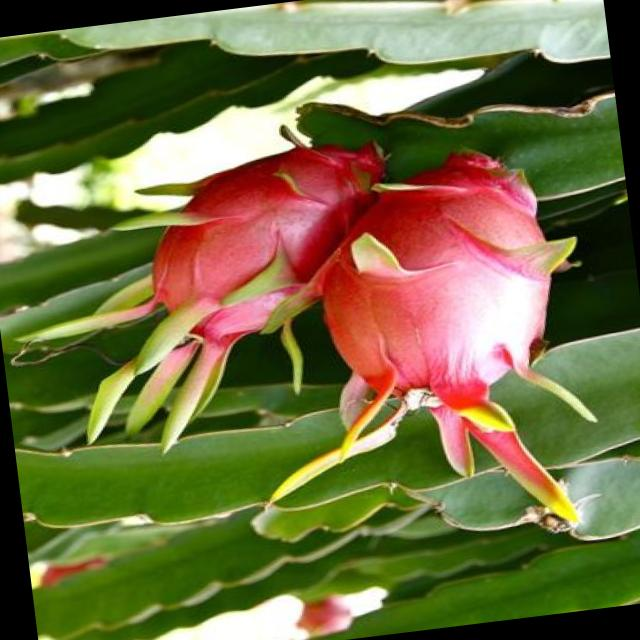Chuc: (289, 586, 368, 640)
Thanh Long: (237, 126, 616, 552), (47, 126, 421, 457)
